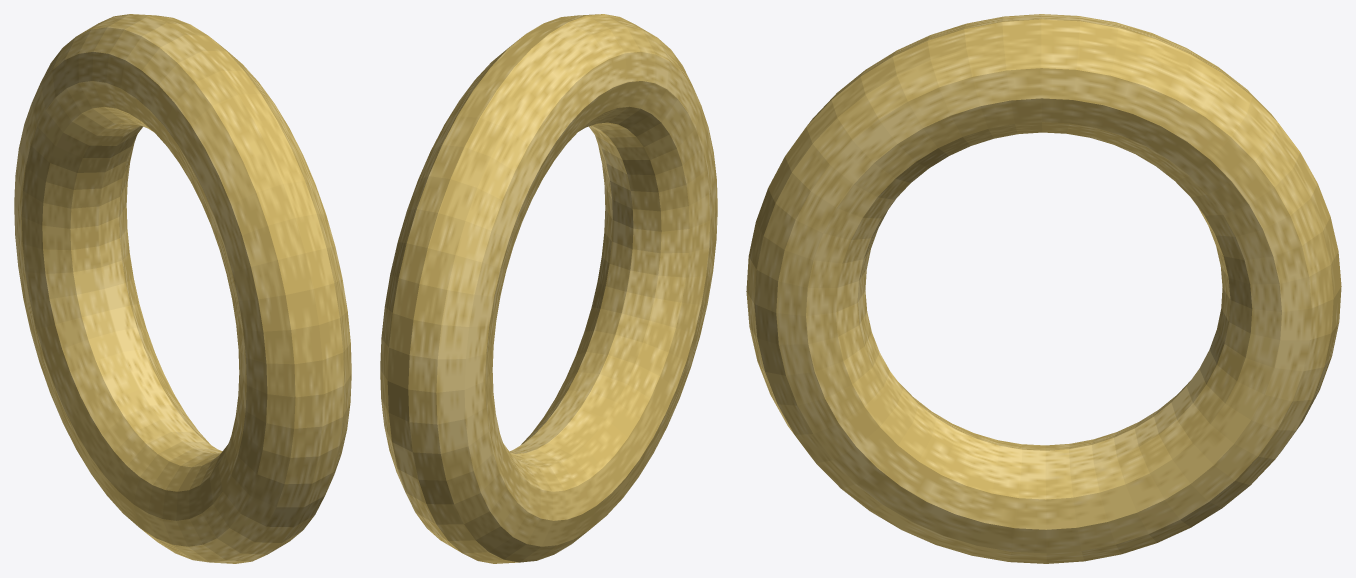
The model's file is ring.fbx.
3 views of the same model, side by side, from view 1: azimuth 30°, elevation 25°; view 2: azimuth 150°, elevation 25°; view 3: azimuth 270°, elevation 25° (orthographic). The views are drawn at different scales.
Visible parts, largest first — view 1: Torus; view 2: Torus; view 3: Torus.
Part boxes in pixels (box(x1,y1,x2,y2)): Torus: box(14, 14, 351, 563); Torus: box(380, 14, 717, 563); Torus: box(746, 14, 1341, 563).
Size of the model in its own units: 50 by 250 by 250.
Materials: 1 (1 with a texture image).
